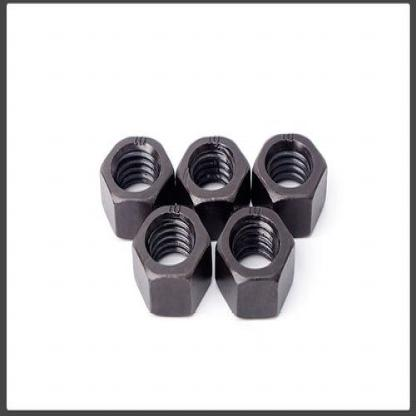FOD: (214, 202, 297, 322), (129, 203, 214, 317), (250, 130, 330, 240), (96, 135, 178, 241), (175, 135, 251, 241)
